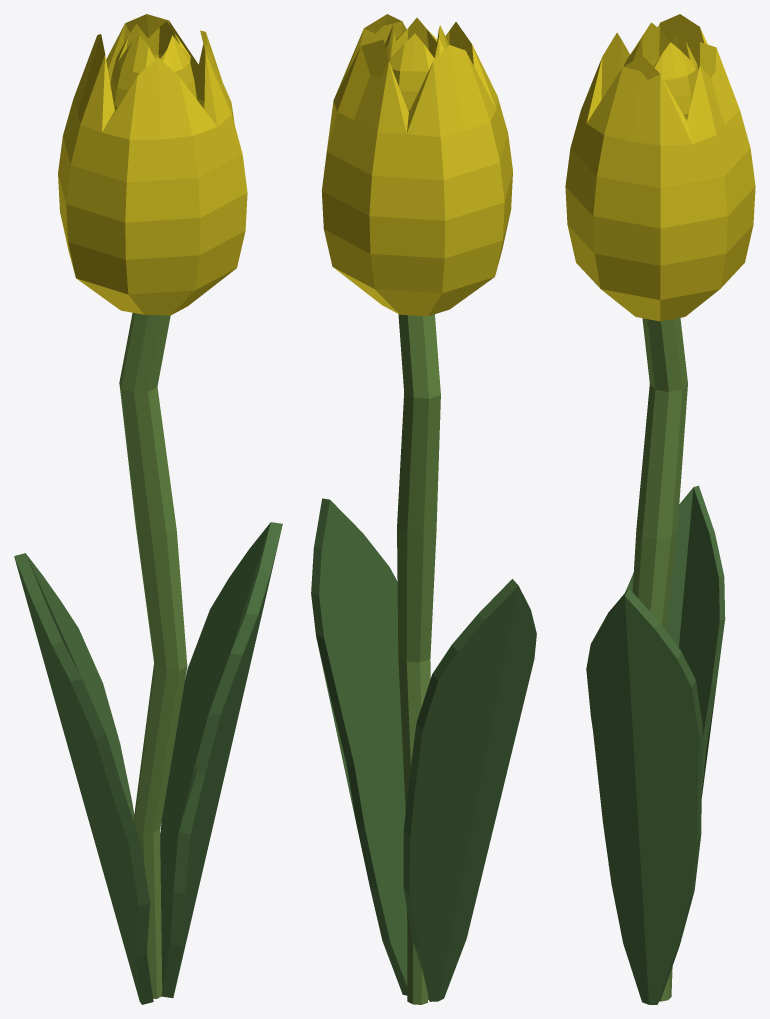
Rendered from Tulp_geel.fbx.
The picture shows the model from 3 angles, left to right: view 1: azimuth 30°, elevation 25°; view 2: azimuth 150°, elevation 25°; view 3: azimuth 270°, elevation 25°; orthographic projection.
Visible parts, largest first — view 1: Tulp_geel; view 2: Tulp_geel; view 3: Tulp_geel.
Boxes of the visible parts, x1,y1,x2,y2 form: Tulp_geel: (14, 14, 282, 1004); Tulp_geel: (311, 14, 536, 1004); Tulp_geel: (565, 14, 755, 1004).
Bounding box in the file's own units: 7.67 × 30.57 × 5.45.
